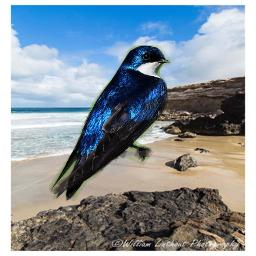Swallow: (49, 45, 171, 201)
